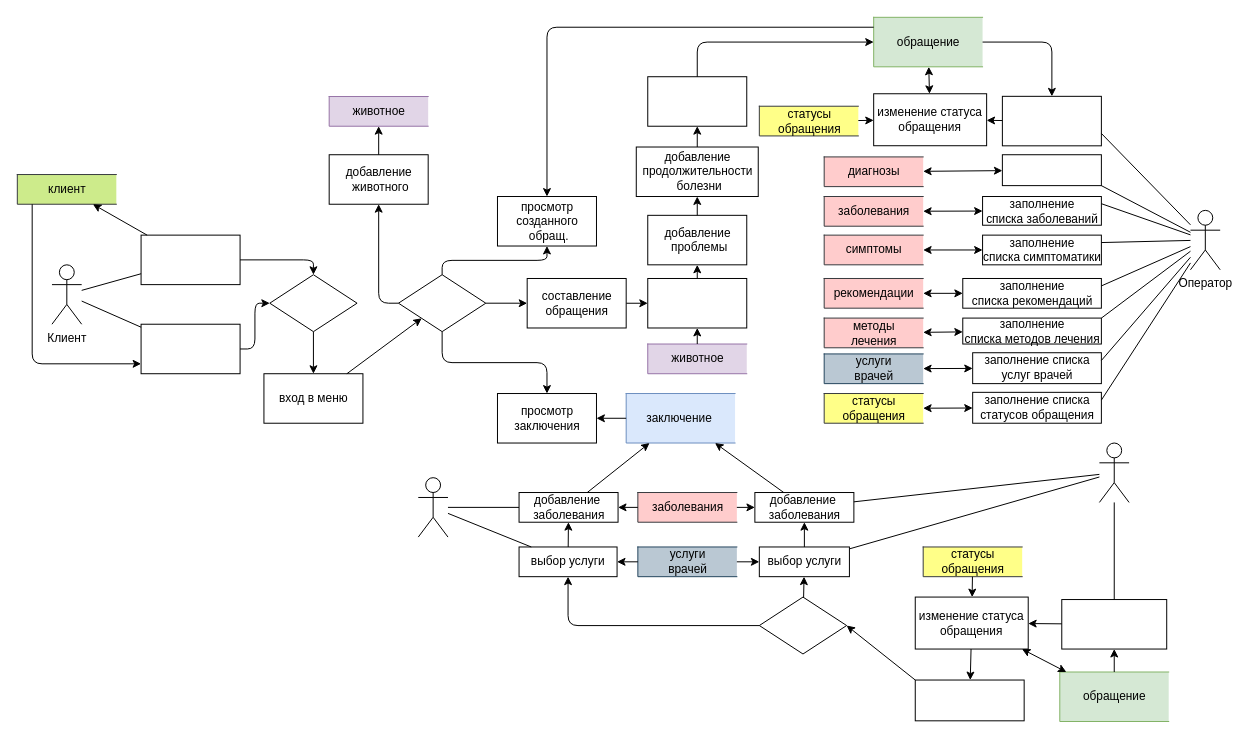
This 1249x740 diagram has some shape labels left out. Each missing label, with the centre of its shape:
"авторизация" goes at (x=190, y=348).
"вет. врач" goes at (x=1113, y=472).
"вет. диетолог" goes at (x=432, y=507).
"выбор животного" goes at (x=697, y=302).
"добавление примечания" goes at (x=697, y=101).
"заполнение списка диагнозов" goes at (x=1051, y=170).
"модерация обращения" goes at (x=1051, y=120).
"рассмотрение обращения" goes at (x=1114, y=624).
"регистрация" goes at (x=190, y=259).
"составление заключения" goes at (x=969, y=700).
